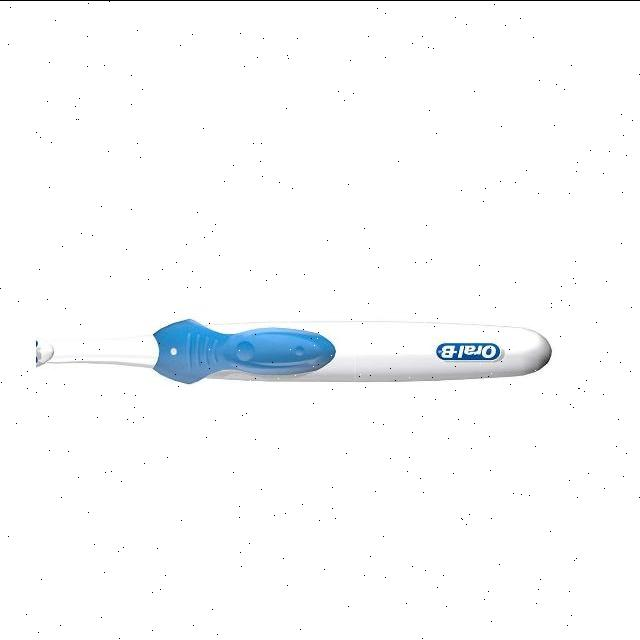toothbrush: (36, 275, 548, 421)
